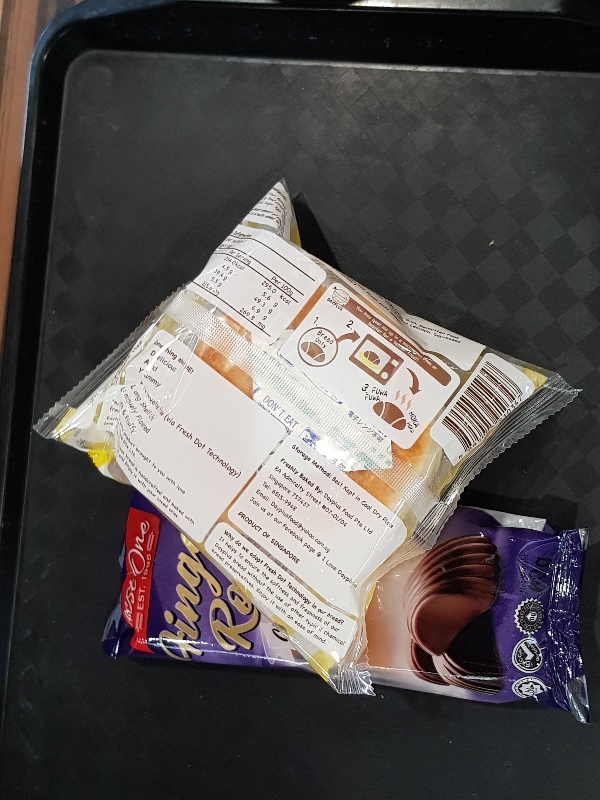Dayplus Banana: (34, 177, 581, 695)
Tinges Roll Chocolate: (103, 496, 590, 722)
